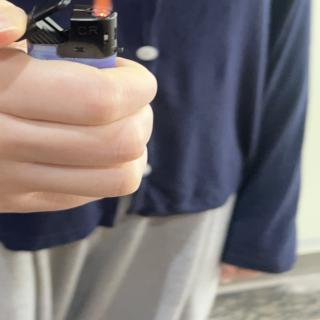fire: (88, 0, 115, 16)
